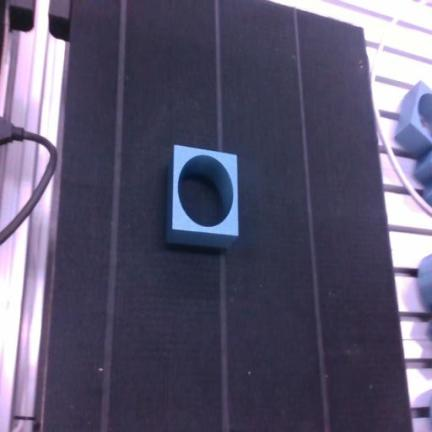square: (168, 146, 238, 248), (395, 81, 431, 157)
